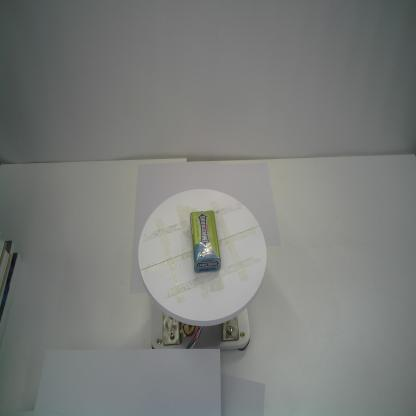Gum: (189, 208, 223, 275)
